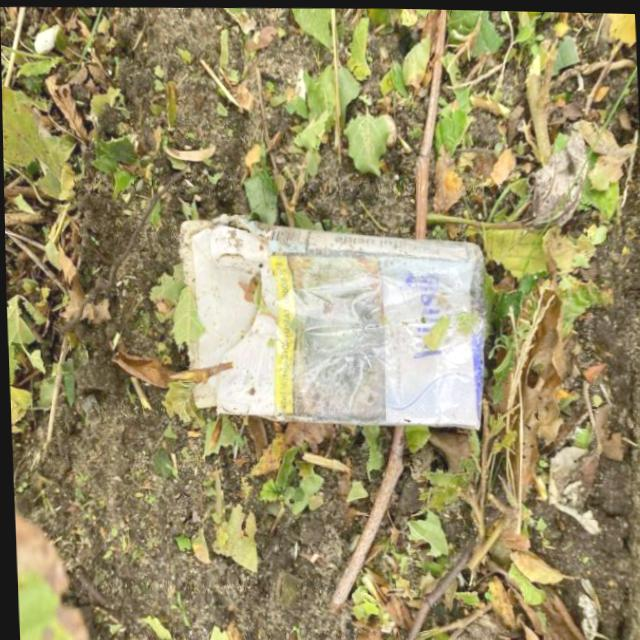Paper: (177, 204, 496, 438)
